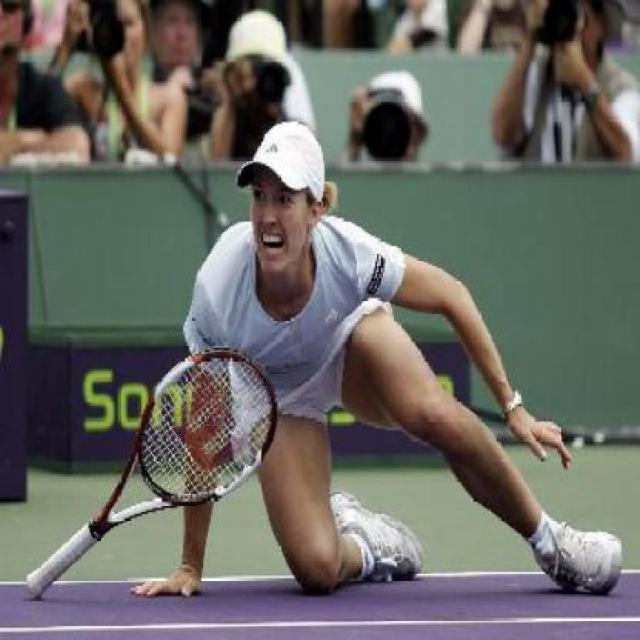fall: (142, 106, 624, 600)
